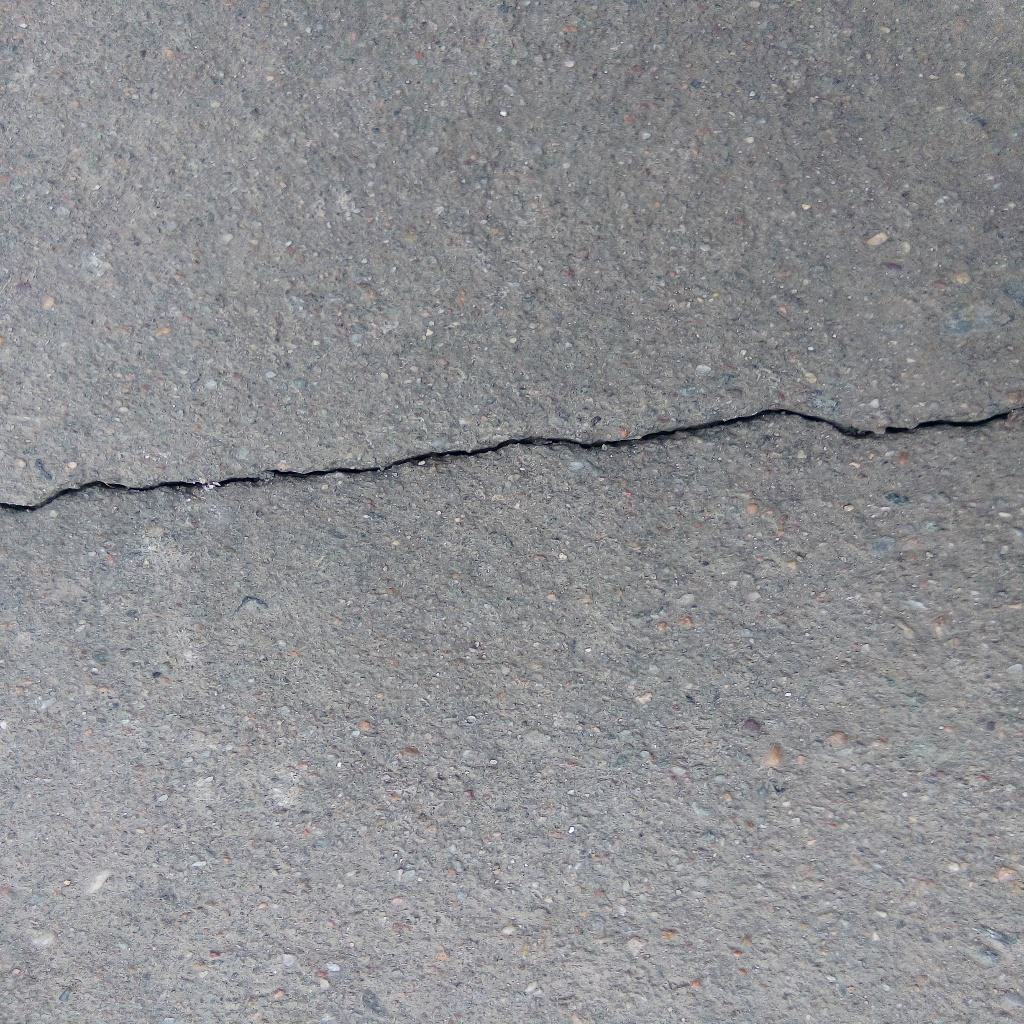Crack: (1, 404, 1024, 515)
